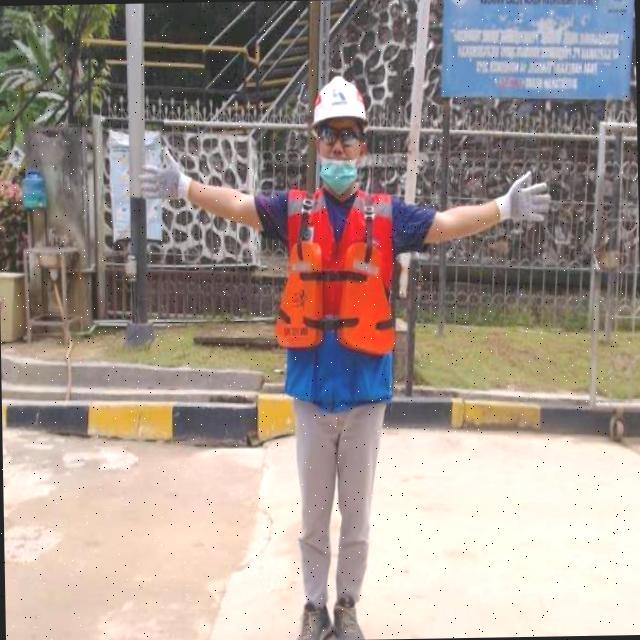goggles_on: (318, 123, 364, 149)
